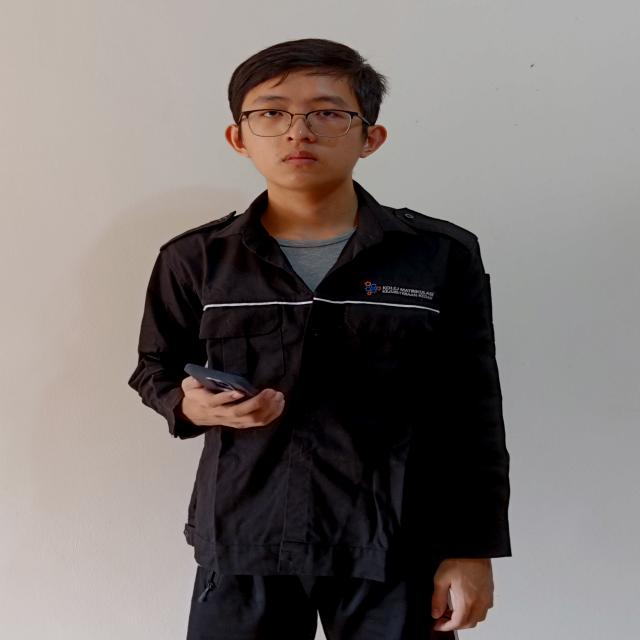person_with_labcoat: (130, 40, 511, 640)
